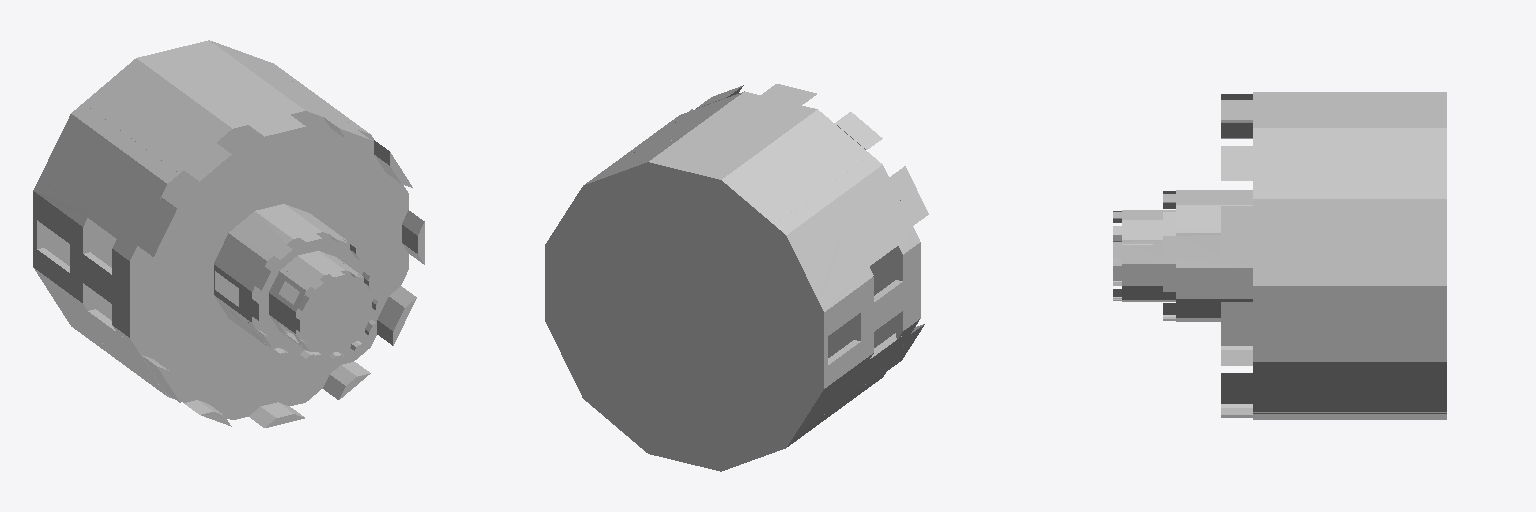
File: bigcastle.obj
The picture shows the model from 3 angles: view 1: azimuth 30°, elevation 25°; view 2: azimuth 150°, elevation 25°; view 3: azimuth 270°, elevation 25°; orthographic projection.
Visible parts, largest first — view 1: bigcastle; view 2: bigcastle; view 3: bigcastle.
Part boxes in pixels (bbox=[...]): bigcastle: bbox=[33, 40, 424, 427]; bigcastle: bbox=[545, 84, 928, 471]; bigcastle: bbox=[1113, 92, 1446, 419].
Bounding box in the file's own units: 400 × 400 × 414.